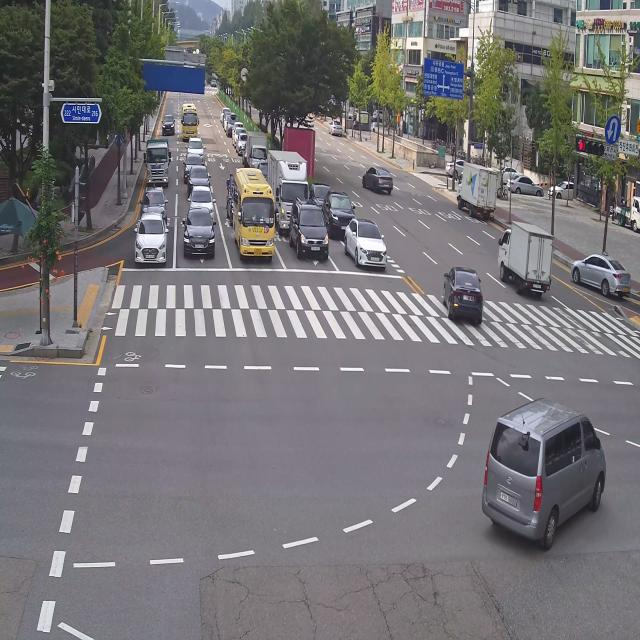Bus: (227, 144, 282, 281), (178, 95, 214, 156)
Car: (477, 377, 615, 562), (560, 233, 633, 307), (437, 252, 496, 334), (287, 188, 336, 274), (342, 204, 387, 282), (131, 203, 173, 280), (177, 194, 217, 272), (324, 186, 358, 238), (358, 158, 395, 197), (139, 181, 169, 221), (188, 182, 218, 222), (506, 172, 545, 202), (546, 171, 580, 202), (308, 180, 332, 213), (494, 158, 523, 185), (183, 153, 204, 186), (189, 165, 212, 194), (225, 175, 238, 225), (187, 134, 207, 166), (443, 156, 472, 178), (325, 115, 340, 144), (161, 111, 177, 135), (258, 160, 270, 186), (231, 121, 243, 146), (237, 132, 249, 156), (220, 105, 231, 128), (234, 127, 245, 149), (227, 115, 238, 134), (224, 115, 232, 136)
Motorcycle: (225, 167, 232, 206)
Truck: (487, 207, 554, 309), (443, 151, 503, 228), (266, 145, 308, 232), (142, 132, 170, 187), (614, 192, 640, 238), (246, 131, 268, 171)
